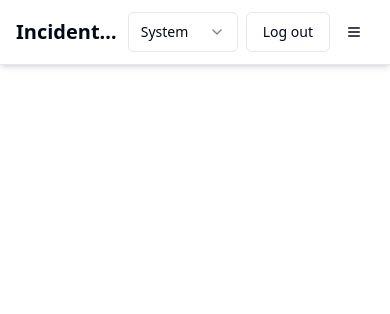
Header › closes the mobile menu after navigating
Click the button named "Toggle Menu". click: (354, 32)
box: [334, 12, 374, 52]
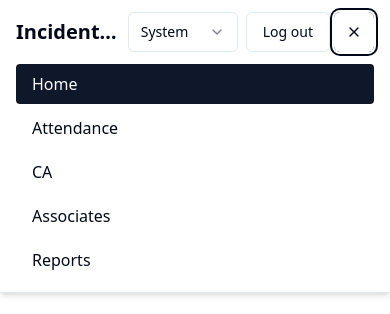
Expected: the navigation bar named "Mobile" is shown
Click the link "Attendance". click: (75, 128)
box: [32, 117, 118, 139]
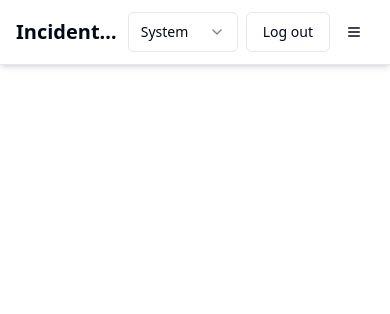
Expected: the navigation bar "Mobile" is gone
